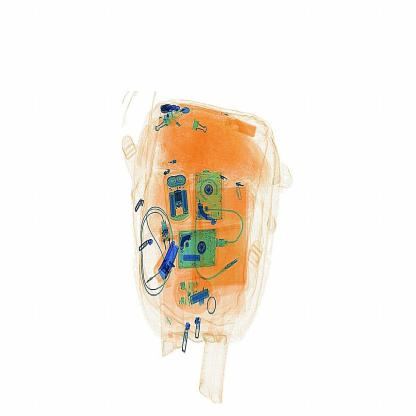pliers: (150, 238, 187, 294)
